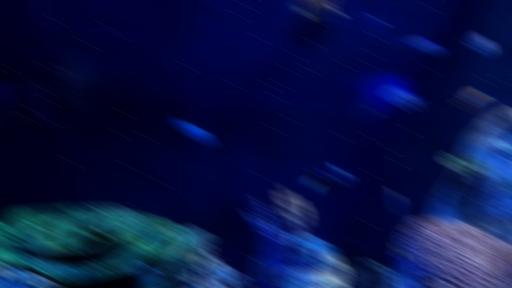Fish: (306, 165, 349, 190), (393, 246, 418, 287), (172, 118, 211, 143), (293, 0, 342, 19), (384, 88, 421, 107), (454, 90, 487, 109), (402, 39, 441, 52), (127, 264, 156, 279), (468, 36, 491, 53), (389, 189, 402, 218)
